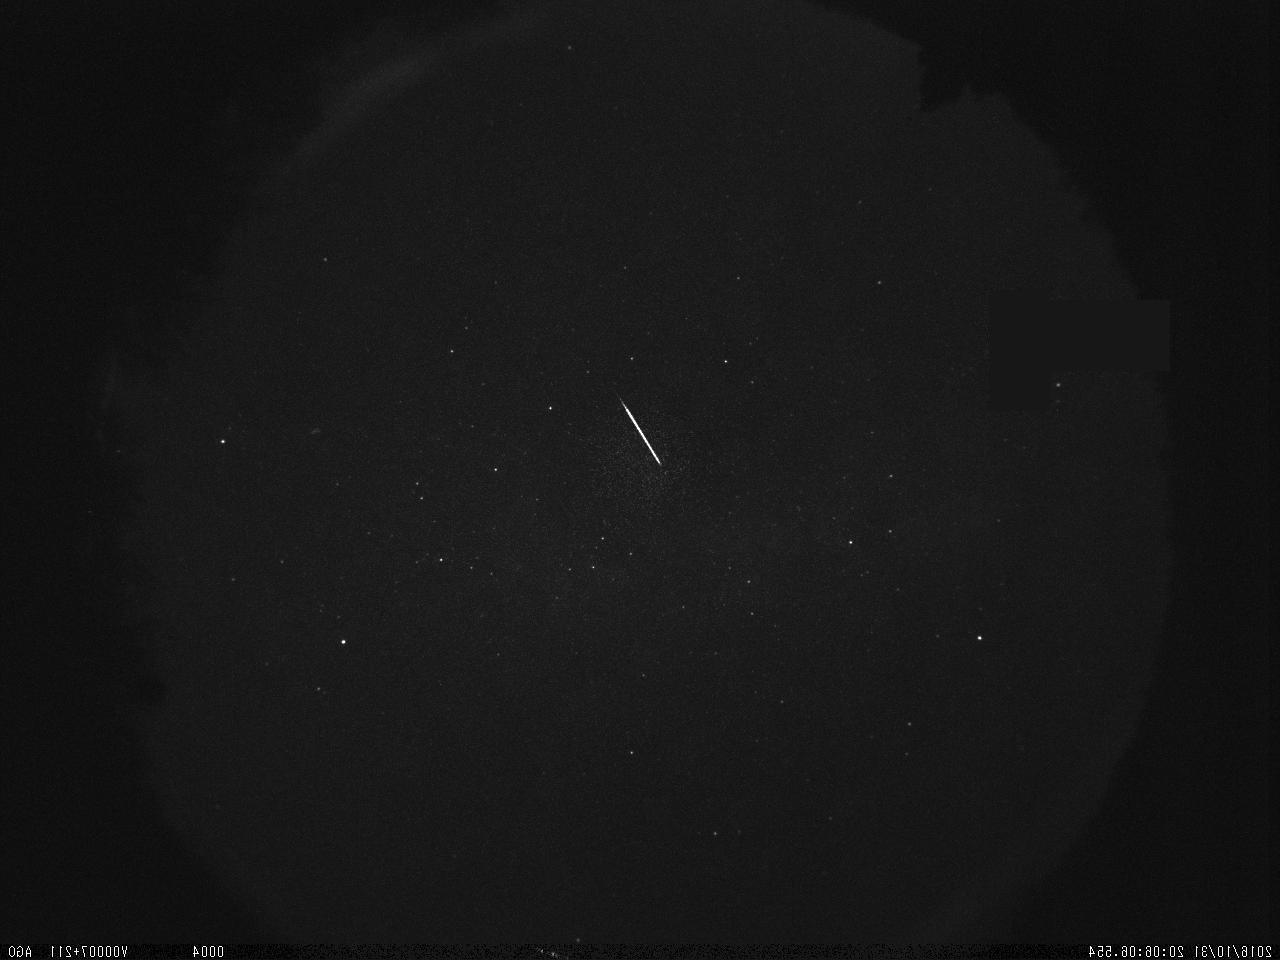meteor: (603, 385, 676, 481)
